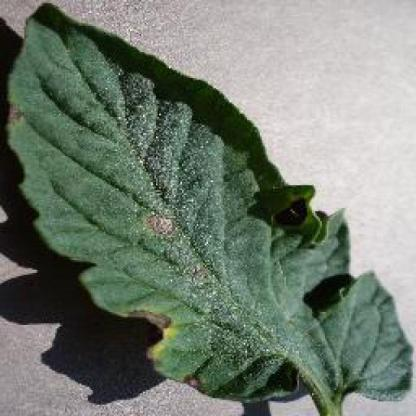Tomato_Blight: (9, 21, 412, 400)
